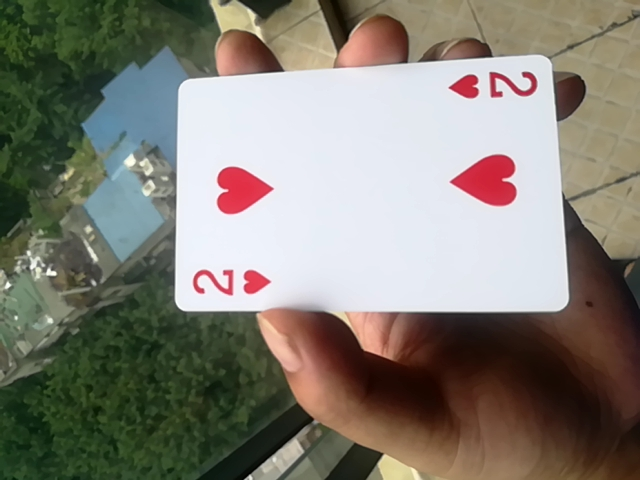hx 2: (170, 55, 571, 323)
